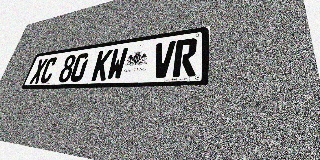0: (69, 52, 90, 82)
8: (57, 54, 78, 83)
C: (39, 57, 58, 83)
K: (91, 49, 113, 81)
R: (172, 38, 198, 77)
V: (151, 41, 176, 78)
W: (106, 47, 129, 80)
X: (29, 58, 48, 84)
